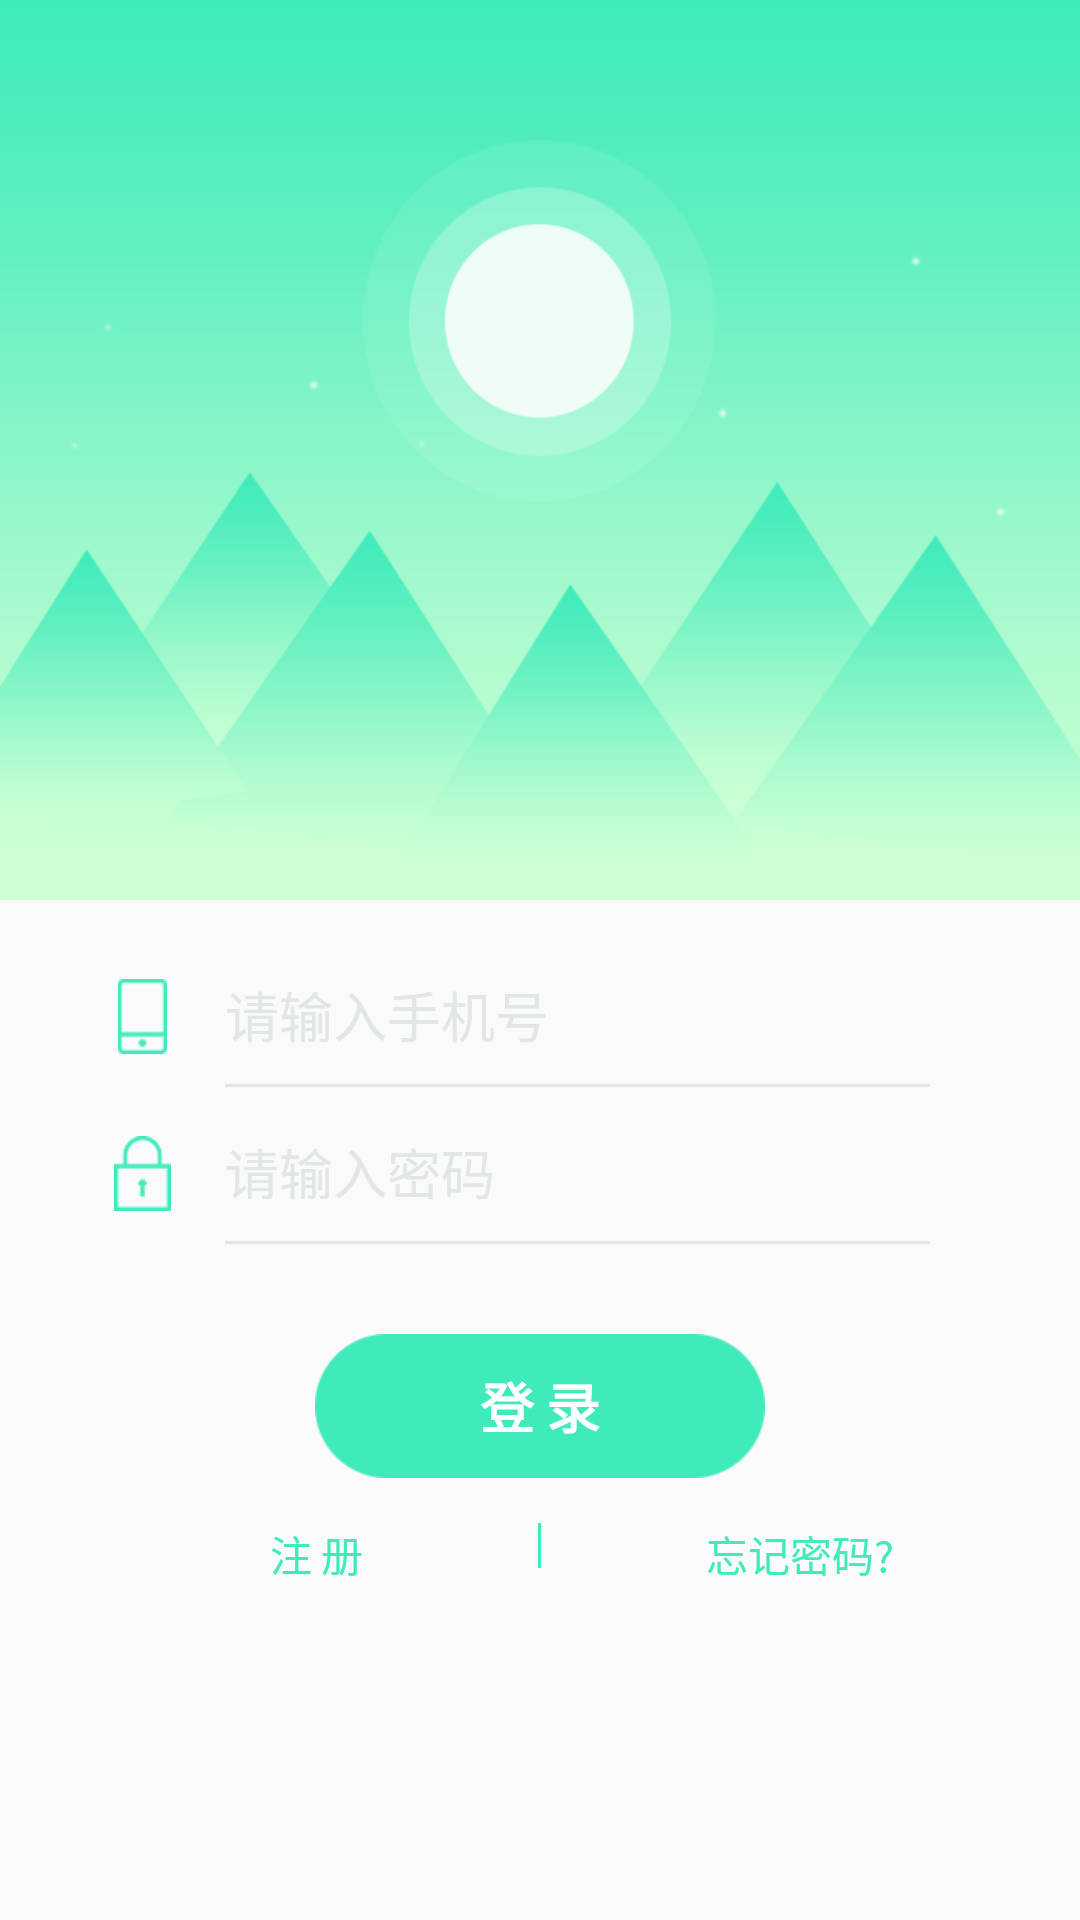

Where icons sit on this 1080w x 1920h app screen, as (x1,y1,x2,y2):
password: (114,1136,171,1211)
phone: (118,979,167,1054)
